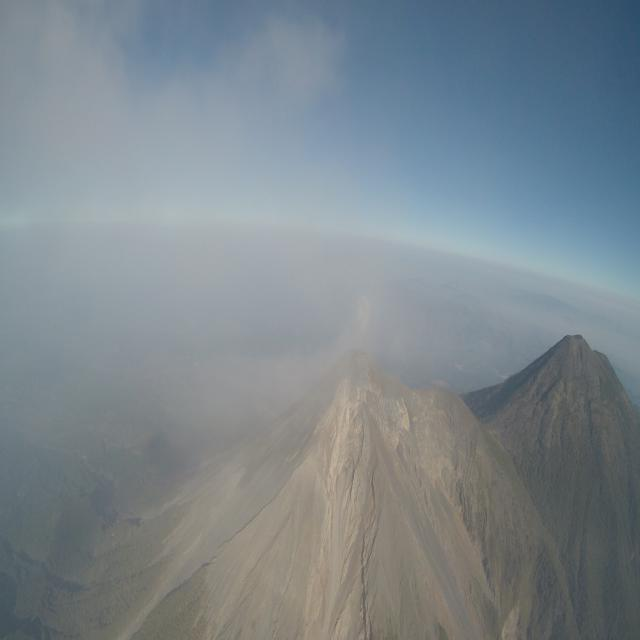Summit: (303, 350, 414, 440)
